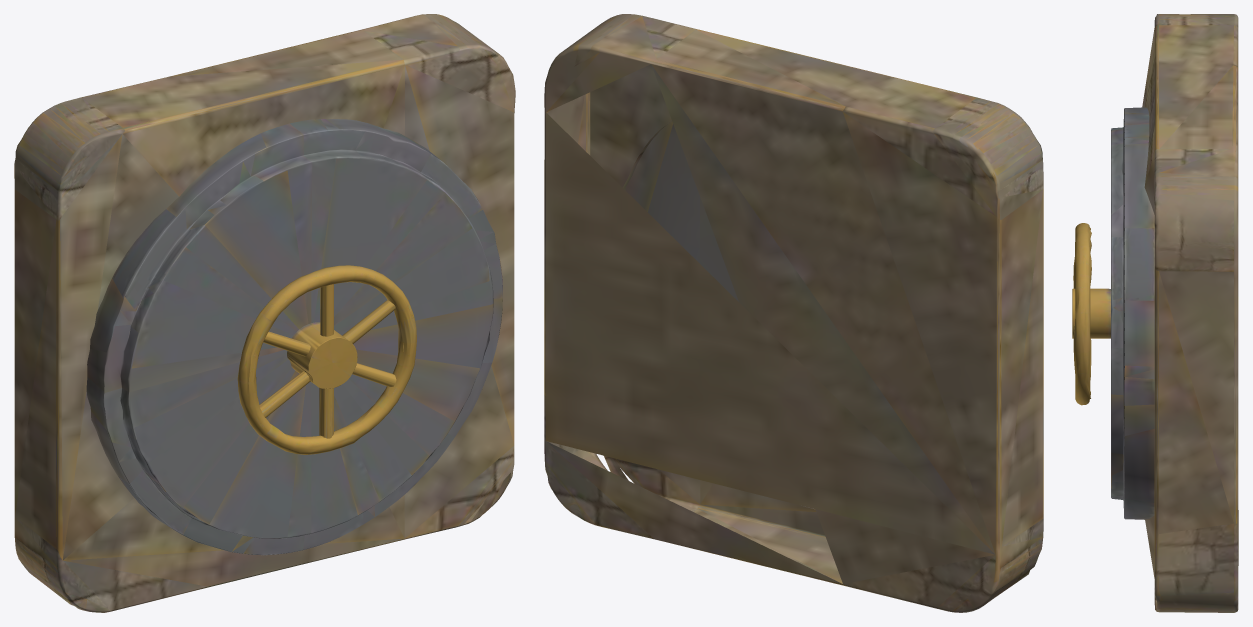
The model's file is vault.glb.
3 views of the same model, side by side, from view 1: azimuth 30°, elevation 25°; view 2: azimuth 150°, elevation 25°; view 3: azimuth 270°, elevation 25° (orthographic). The views are drawn at different scales.
Size of the model in its own units: 0.9482 by 0.9507 by 0.3296.
Materials: 1 (1 with a texture image).
